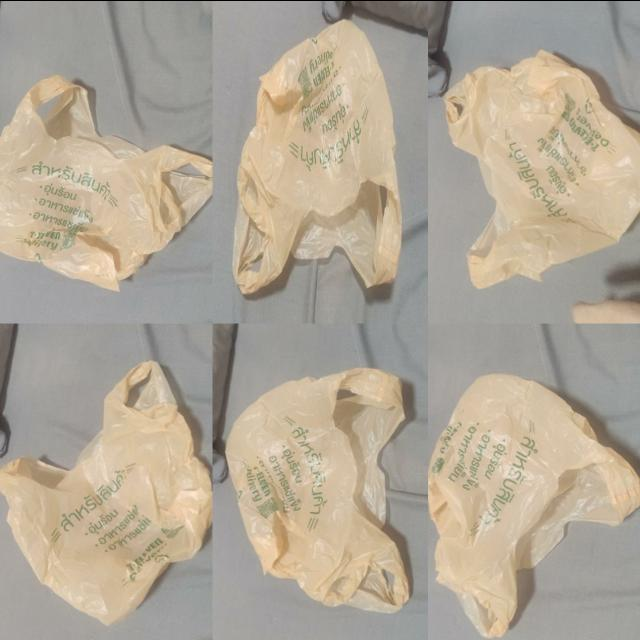plastik: (0, 360, 212, 623), (429, 374, 640, 637), (444, 50, 640, 287), (233, 20, 401, 292), (0, 76, 212, 289), (227, 368, 409, 612)
